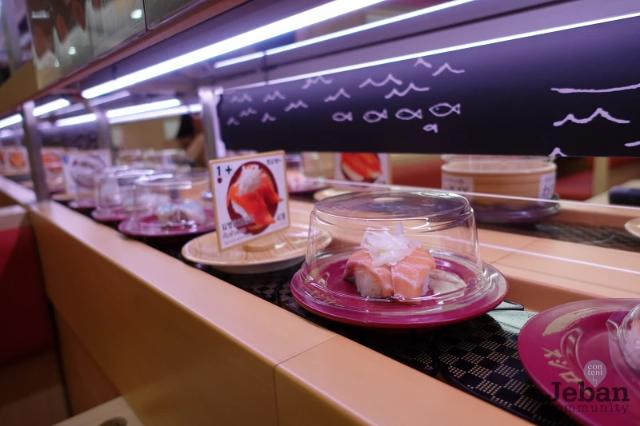janred: (278, 235, 506, 330), (522, 293, 640, 424), (105, 210, 244, 247), (72, 176, 173, 223), (42, 168, 130, 206)
